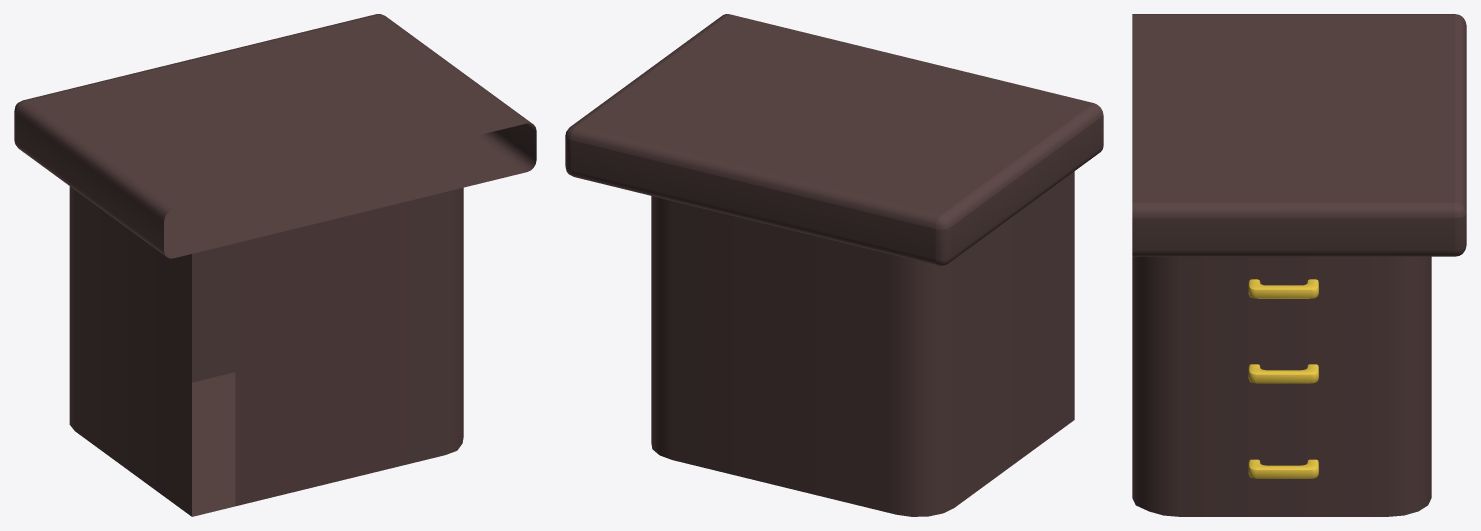
The model's file is DeskSidePieceBlockout_RB.fbx.
3 views of the same model, side by side, from view 1: azimuth 30°, elevation 25°; view 2: azimuth 150°, elevation 25°; view 3: azimuth 270°, elevation 25° (orthographic). The views are drawn at different scales.
Parts seen in each view (by area): view 1: DeskSidePieceBlockout_RB; view 2: DeskSidePieceBlockout_RB; view 3: DeskSidePieceBlockout_RB.
Boxes of the visible parts, x1,y1,x2,y2 form: DeskSidePieceBlockout_RB: [14, 14, 536, 516]; DeskSidePieceBlockout_RB: [565, 14, 1103, 516]; DeskSidePieceBlockout_RB: [1132, 14, 1466, 516].
Bounding box in the file's own units: 280 × 224 × 200.
